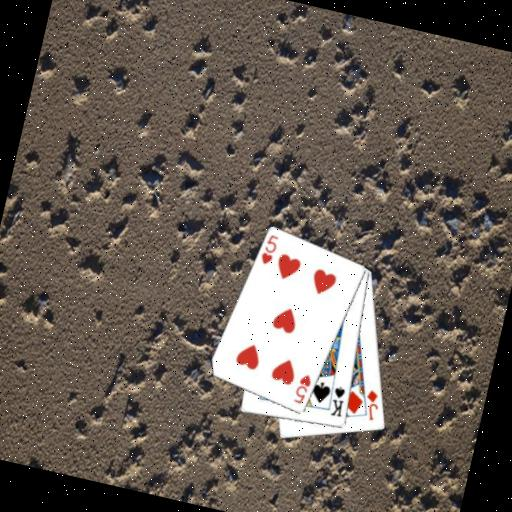5H: (257, 230, 281, 268), (290, 370, 314, 407)
JD: (359, 387, 385, 424)
KS: (326, 382, 350, 420)
